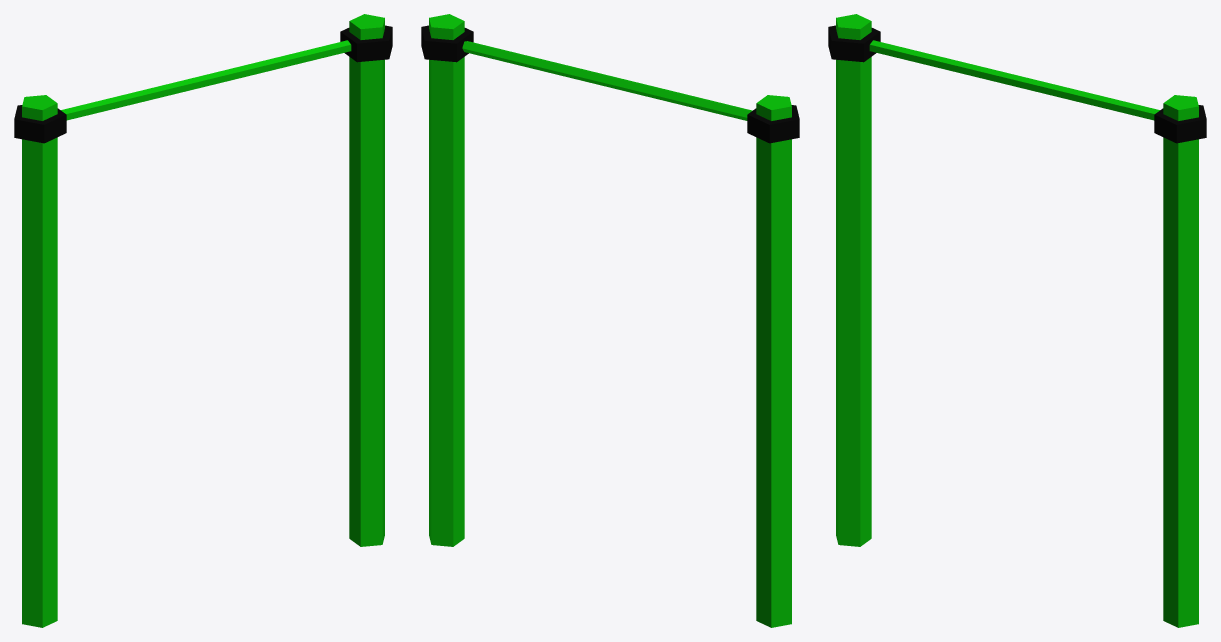
The model's file is highbar.fbx.
The picture shows the model from 3 angles, left to right: view 1: azimuth 30°, elevation 25°; view 2: azimuth 150°, elevation 25°; view 3: azimuth 330°, elevation 25°; orthographic projection.
Visible parts, largest first — view 1: Cylinder.003, Cylinder, Cylinder.004, Cylinder.002, Cylinder.001; view 2: Cylinder.003, Cylinder, Cylinder.004, Cylinder.002, Cylinder.001; view 3: Cylinder, Cylinder.003, Cylinder.004, Cylinder.001, Cylinder.002.
Boxes of the visible parts, x1,y1,x2,y2 form: Cylinder.003: (22,95,57,627); Cylinder: (349,14,384,546); Cylinder.004: (61,40,351,120); Cylinder.002: (14,105,66,143); Cylinder.001: (340,25,392,62); Cylinder.003: (756,95,791,627); Cylinder: (429,14,464,546); Cylinder.004: (462,41,752,120); Cylinder.002: (747,105,799,143); Cylinder.001: (421,25,473,62); Cylinder: (1163,95,1198,627); Cylinder.003: (836,14,871,546); Cylinder.004: (869,40,1159,120); Cylinder.001: (1154,105,1206,143); Cylinder.002: (828,25,880,62).
Bounding box in the file's own units: 689 × 900 × 84.27.
